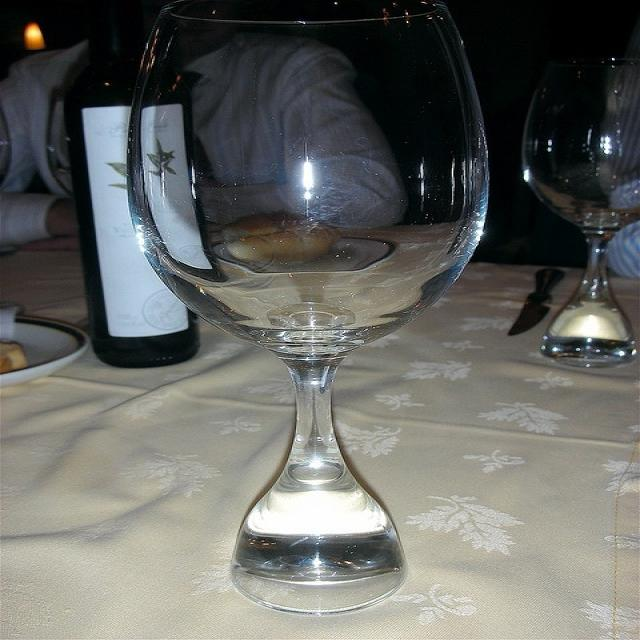Glass: (98, 9, 530, 630)
